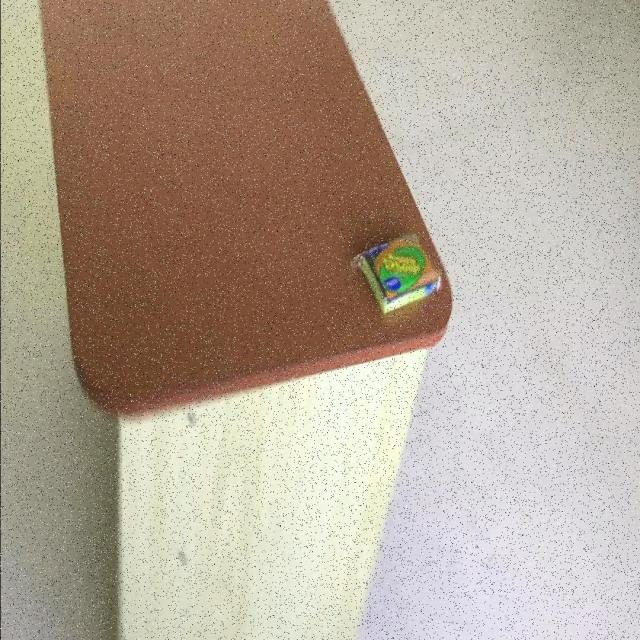Sponge: (39, 0, 452, 421), (350, 234, 442, 317)
